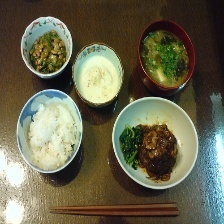rice: (22, 97, 80, 172)
